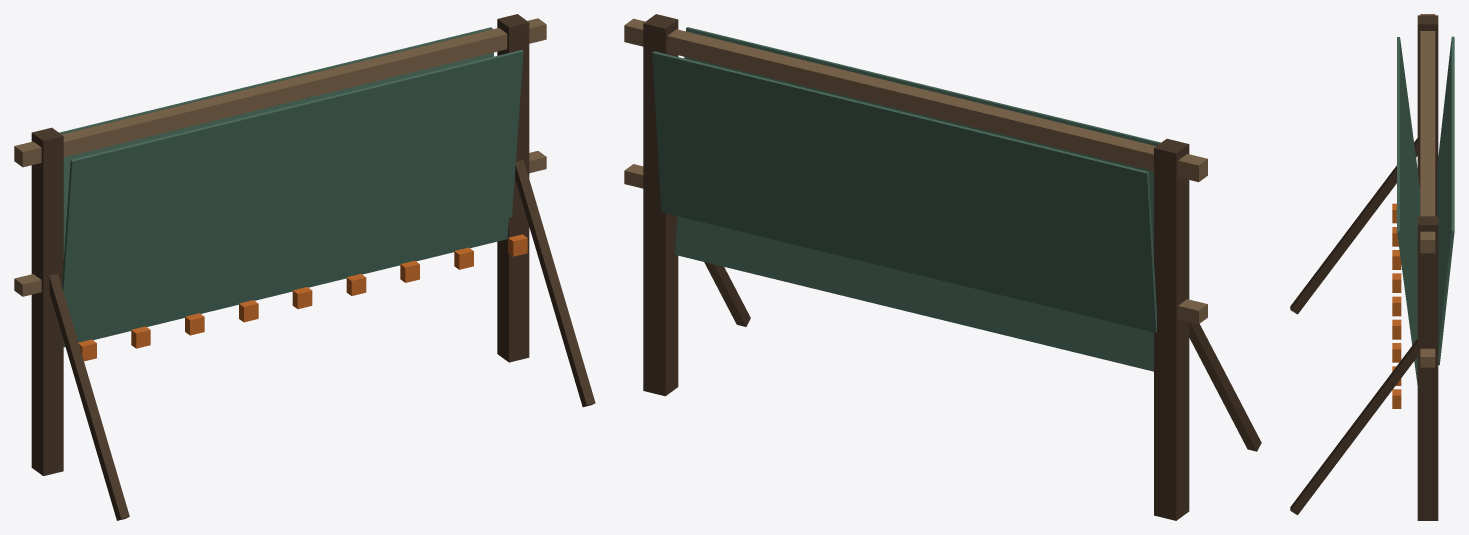
File: hb_net_rack.glb
The picture shows the model from 3 angles, left to right: view 1: azimuth 30°, elevation 25°; view 2: azimuth 150°, elevation 25°; view 3: azimuth 270°, elevation 25°; orthographic projection. The views are drawn at different scales.
Parts seen in each view (by area): view 1: hb_net_rack; view 2: hb_net_rack; view 3: hb_net_rack.
Part boxes in pixels (x1,y1,x2,y2): hb_net_rack: (14,14,595,520); hb_net_rack: (624,14,1261,520); hb_net_rack: (1290,14,1454,520).
Bounding box in the file's own units: 3.6 × 2.2 × 1.11.
